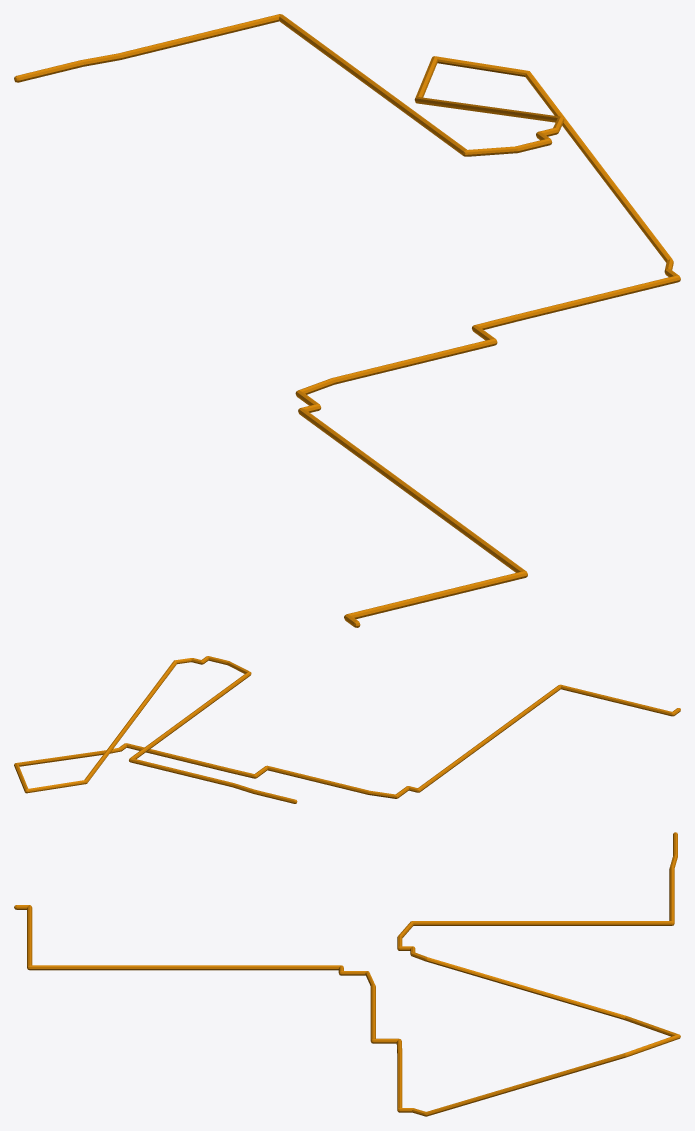
3 views of the same model, one above another, from view 1: azimuth 30°, elevation 25°; view 2: azimuth 150°, elevation 25°; view 3: azimuth 270°, elevation 25° (orthographic). The views are drawn at different scales.
Size of the model in its own units: 1905 by 520 by 2567.
